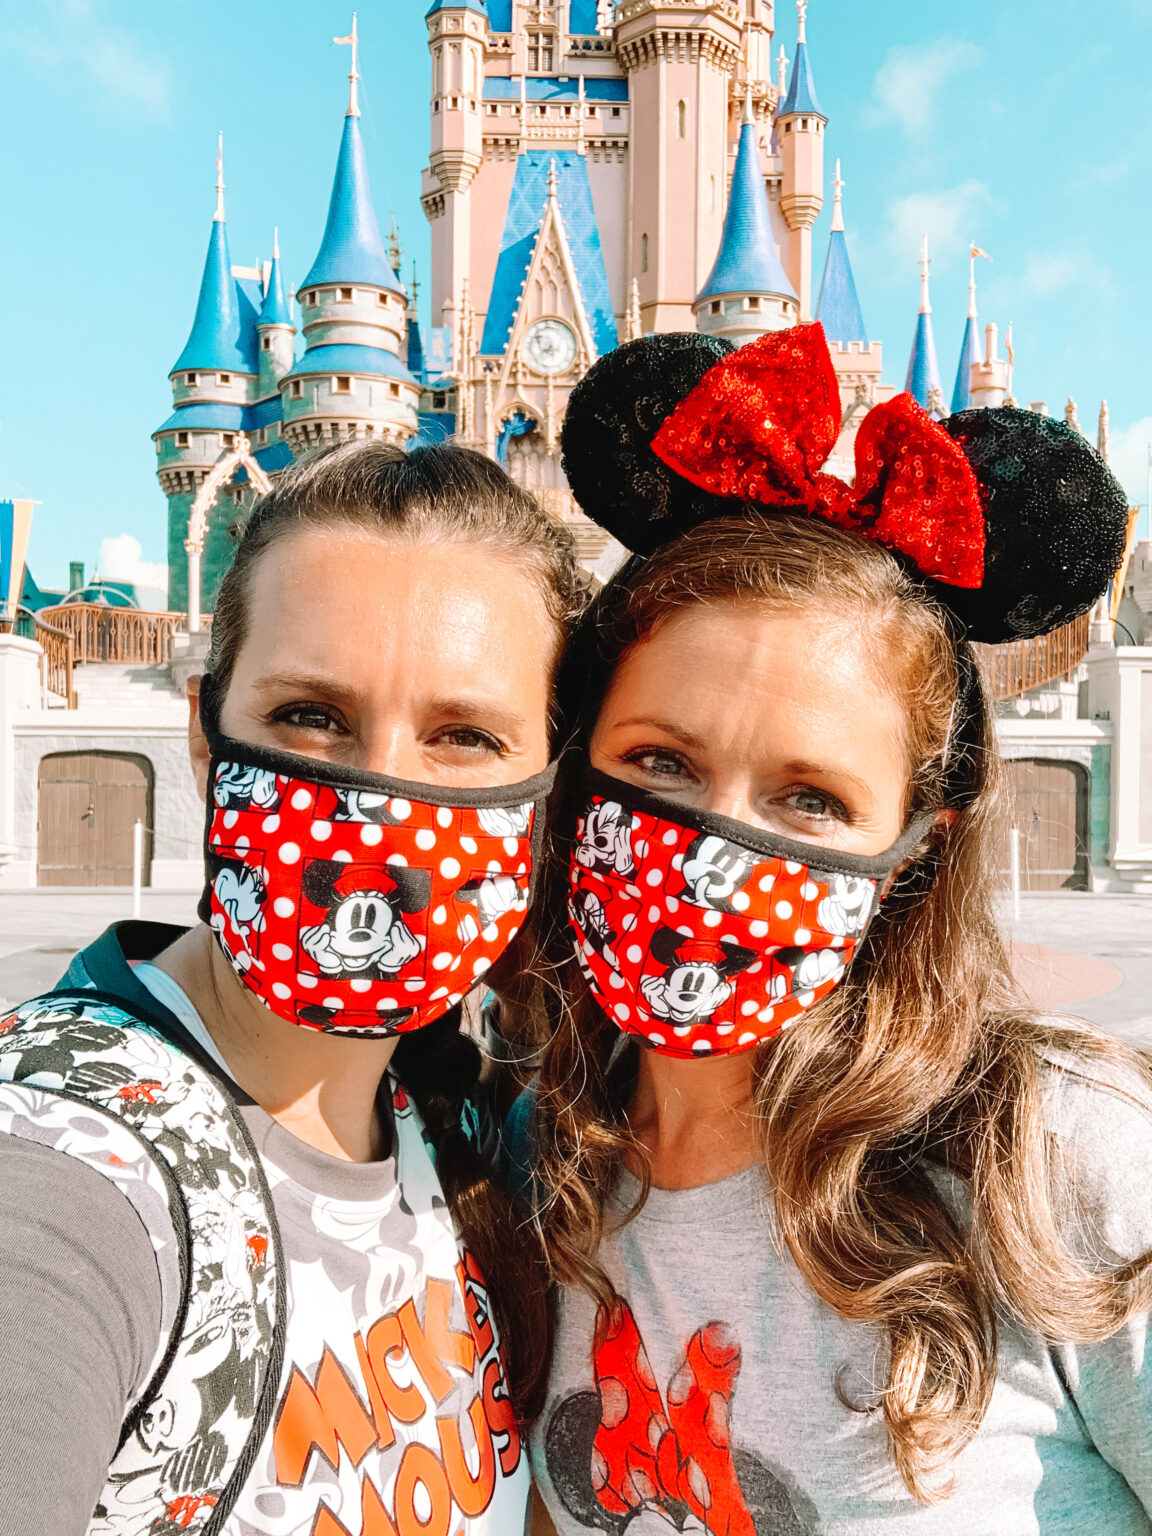with_mask: (247, 605, 539, 980), (596, 664, 870, 1016)
